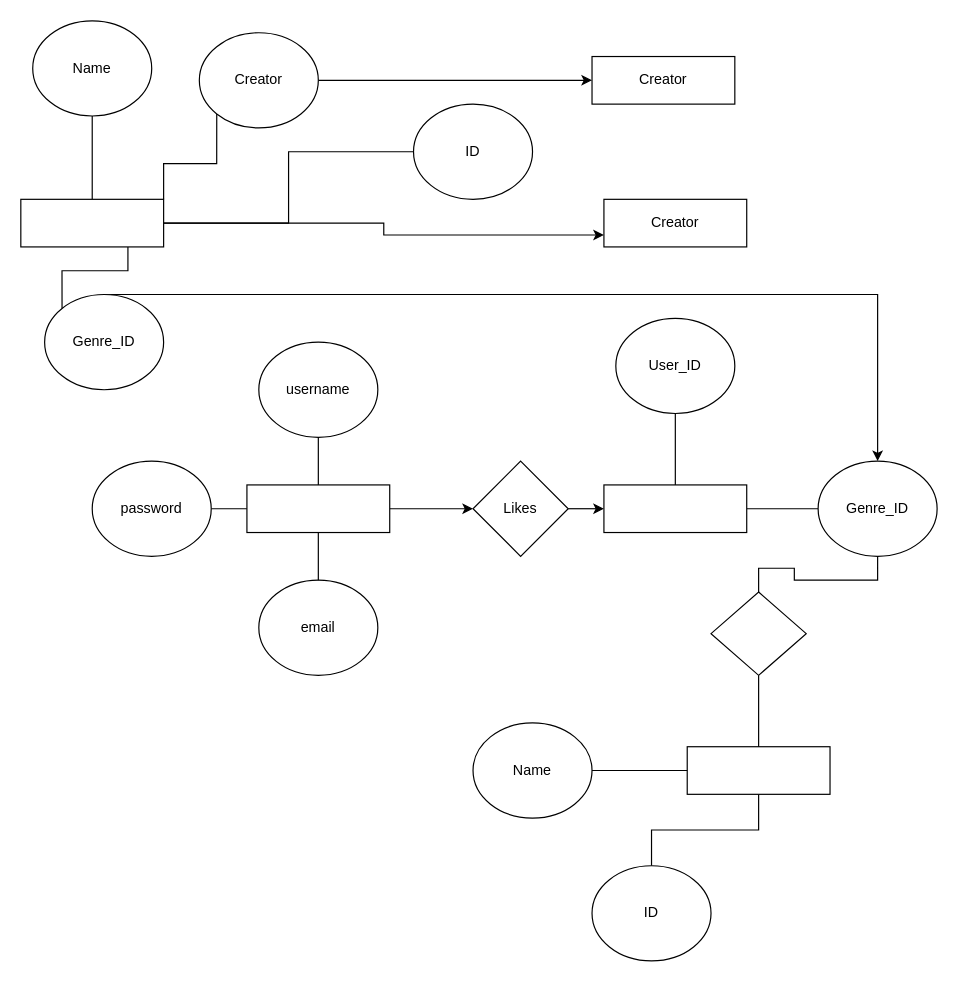
Image size: 958x982. Some labels were removed from this diagram. Here are the shapes that lost their labels. From the top down, the centre of each, then its label:
the point at 92,222: Song
the point at 318,508: User
the point at 675,508: Preference_List
the point at 758,633: Is
the point at 758,770: Genre
